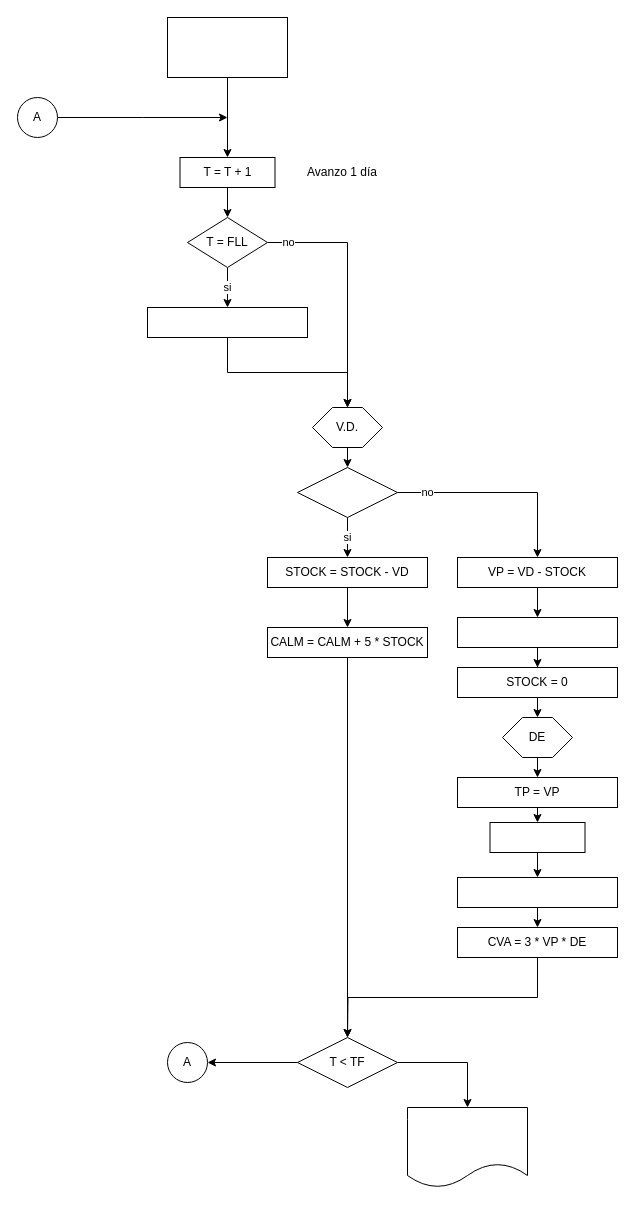
The diagram is 635 pixels wide and 1205 high, and some of its shapes have lost their labels. The centre of each missing label's shape, as x and y in pixels:
C.I.: point (227, 47)
CALM CEP CVP CVA: point (467, 1147)
CEP = CEP + 2: point (537, 892)
CVP = CVP + 4 * VP: point (537, 632)
FLL = T + DE: point (537, 837)
STOCK = STOCK + TP: point (227, 322)
VD < STOCK: point (347, 492)
